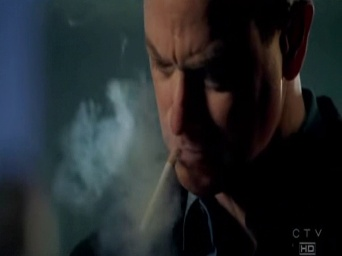smoke: (139, 144, 180, 234)
